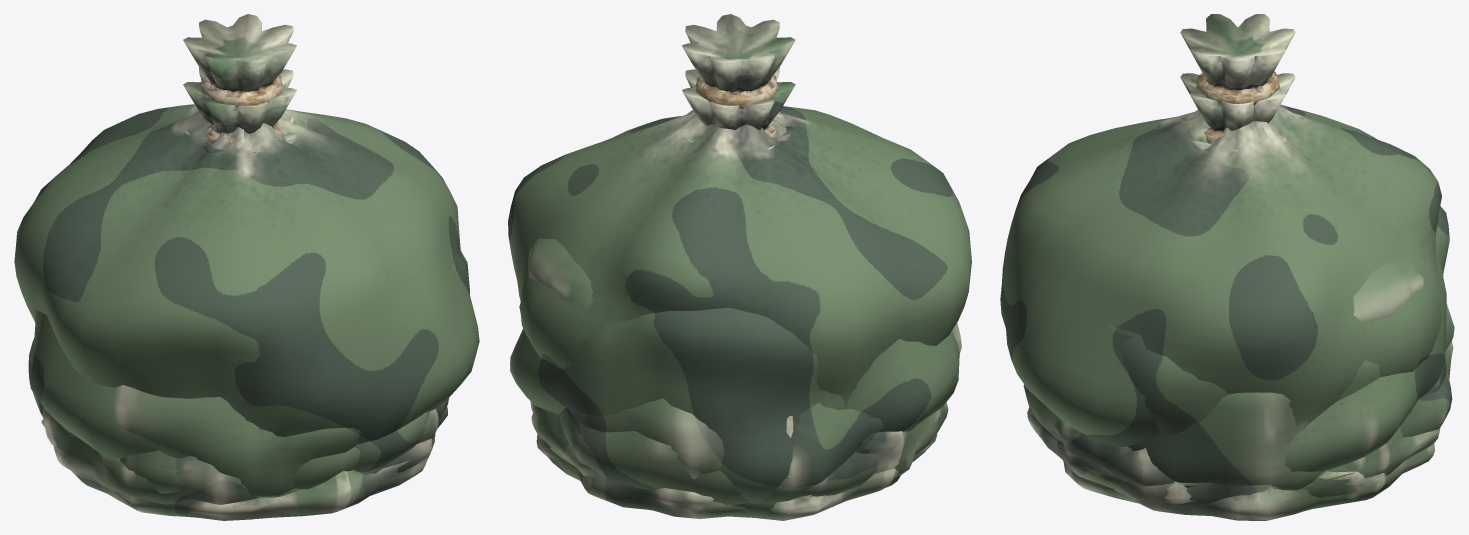
File: PartBundle.glb
3 renders of one model, left to right at view 1: azimuth 30°, elevation 25°; view 2: azimuth 150°, elevation 25°; view 3: azimuth 270°, elevation 25°, orthographic.
Parts seen in each view (by area): view 1: Sack_6, Sack_4, Sack_5, Sack_2, Sack_1, Sack_3, Sack_6_Rope; view 2: Sack_6, Sack_5, Sack_4, Sack_3, Sack_1, Sack_2, Sack_6_Rope; view 3: Sack_6, Sack_5, Sack_4, Sack_1, Sack_2, Sack_3, Sack_6_Rope.
Part boxes in pixels (x1,y1,x2,y2): Sack_6: [14, 14, 479, 444]; Sack_4: [28, 115, 360, 496]; Sack_5: [31, 67, 469, 472]; Sack_2: [42, 407, 447, 504]; Sack_1: [41, 419, 429, 520]; Sack_3: [32, 391, 448, 493]; Sack_6_Rope: [199, 74, 283, 107]; Sack_6: [508, 14, 971, 453]; Sack_5: [510, 67, 959, 503]; Sack_4: [519, 111, 961, 505]; Sack_3: [530, 398, 878, 496]; Sack_1: [531, 413, 937, 520]; Sack_2: [532, 402, 948, 515]; Sack_6_Rope: [695, 74, 779, 109]; Sack_6: [1000, 14, 1441, 447]; Sack_5: [1023, 73, 1449, 471]; Sack_4: [1128, 118, 1453, 490]; Sack_1: [1027, 407, 1434, 520]; Sack_2: [1057, 426, 1440, 508]; Sack_3: [1053, 304, 1454, 488]; Sack_6_Rope: [1195, 71, 1279, 105].
Bounding box in the file's own units: 2.38 × 2.39 × 2.31.
Materials: 12 (12 with a texture image).
